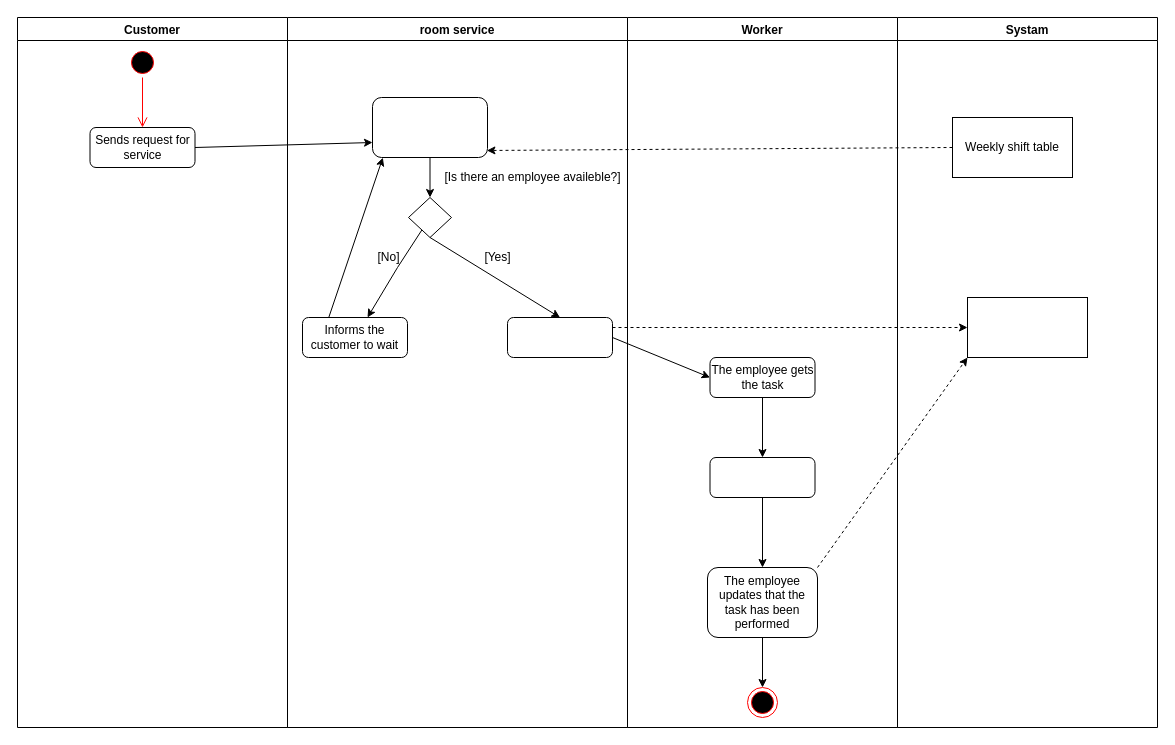
Some shapes in this 1175 by 745 pixel diagram are drawn without their labels. Each missing label, with the centre of its shape:
Give the task to the employee: (559,337)
Gives a task to one of the shift workers: (430,127)
taskes table: (1027,327)
The employee gets the task done: (762,477)
